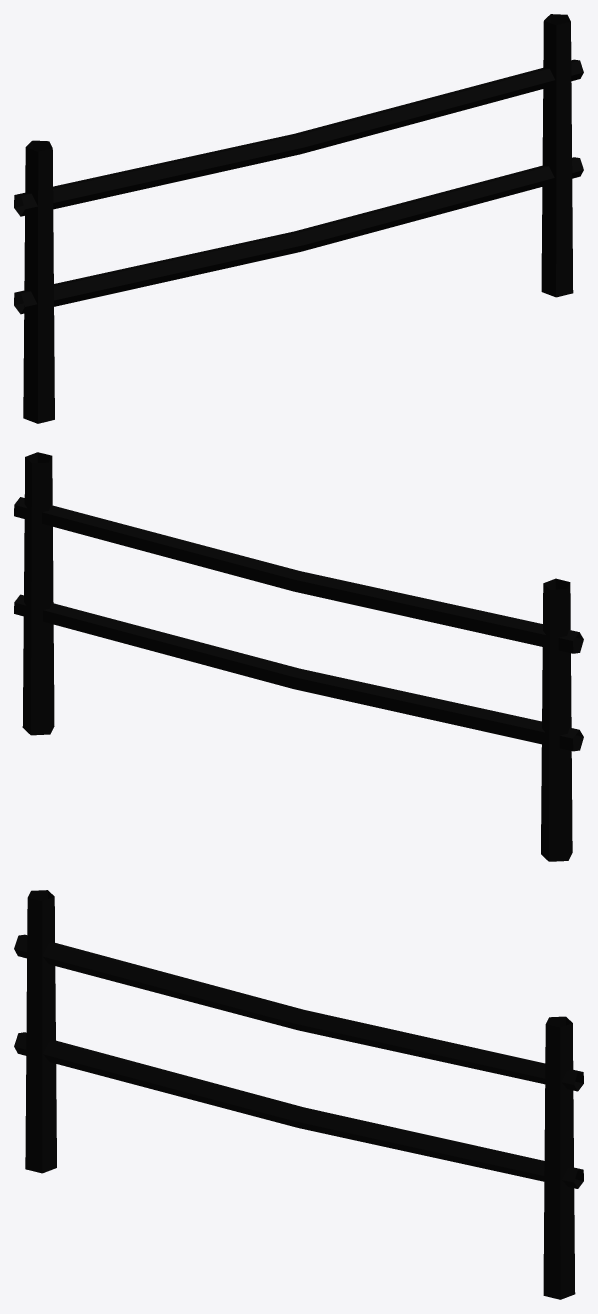
Rendered from SM_fence.fbx.
3 renders of one model, top to bottom at view 1: azimuth 30°, elevation 25°; view 2: azimuth 150°, elevation 25°; view 3: azimuth 330°, elevation 25°, orthographic.
Parts seen in each view (by area): view 1: fence; view 2: fence; view 3: fence.
Boxes of the visible parts, x1,y1,x2,y2 form: fence: (14,14,583,423); fence: (14,452,583,861); fence: (14,890,583,1299).
Bounding box in the file's own units: 2.7 × 1.25 × 0.1266.
